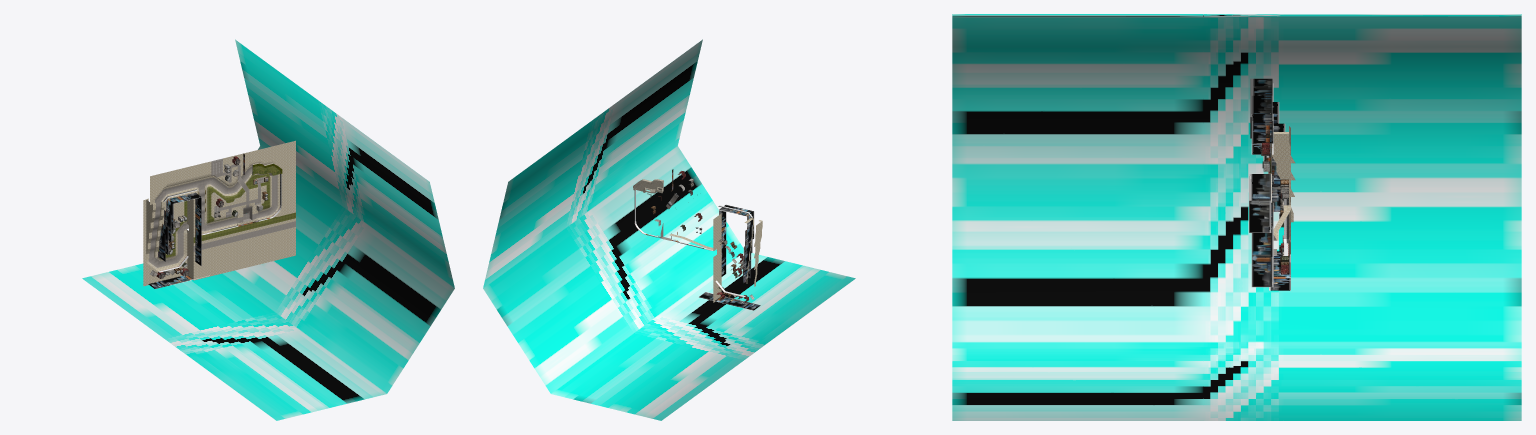
Rendered from los_angeles_fanmade.glb.
3 renders of one model, left to right at view 1: azimuth 30°, elevation 25°; view 2: azimuth 150°, elevation 25°; view 3: azimuth 270°, elevation 25°, orthographic. The views are drawn at different scales.
Visible parts, largest first — view 1: Tube001_06 - Default_0, Plane003_02 - Default_0, Plane003_03 - Default_0, Object001_02 - Default_0, Plane003_15 - Default_0, Object002_02 - Default_0, Object007_02 - Default_0, Plane011_Material #2773_0; view 2: Tube001_06 - Default_0, Object007_02 - Default_0, Object002_02 - Default_0; view 3: Tube001_06 - Default_0, Plane001_Material #2773_0, Plane008_Material #2775_0, Object002_02 - Default_0, Plane021_Material #2775_0, Plane010_Material #2773_0, Plane023_Material #2773_0.
Boxes of the visible parts, bbox=[...] form: Tube001_06 - Default_0: bbox=[82, 39, 454, 420]; Plane003_02 - Default_0: bbox=[150, 140, 295, 280]; Plane003_03 - Default_0: bbox=[166, 164, 295, 251]; Object001_02 - Default_0: bbox=[143, 198, 187, 286]; Plane003_15 - Default_0: bbox=[193, 174, 295, 242]; Object002_02 - Default_0: bbox=[146, 200, 164, 259]; Object007_02 - Default_0: bbox=[186, 199, 193, 279]; Plane011_Material #2773_0: bbox=[195, 192, 201, 265]; Tube001_06 - Default_0: bbox=[483, 39, 855, 420]; Object007_02 - Default_0: bbox=[713, 213, 721, 302]; Object002_02 - Default_0: bbox=[744, 218, 762, 286]; Tube001_06 - Default_0: bbox=[952, 14, 1521, 420]; Plane001_Material #2773_0: bbox=[1251, 202, 1273, 287]; Plane008_Material #2775_0: bbox=[1249, 174, 1271, 232]; Object002_02 - Default_0: bbox=[1272, 126, 1295, 222]; Plane021_Material #2775_0: bbox=[1250, 78, 1272, 138]; Plane010_Material #2773_0: bbox=[1251, 114, 1273, 143]; Plane023_Material #2773_0: bbox=[1269, 251, 1290, 290].
Size of the model in its own units: 21.92 by 21.37 by 30.04.
Materials: 34 (34 with a texture image).
